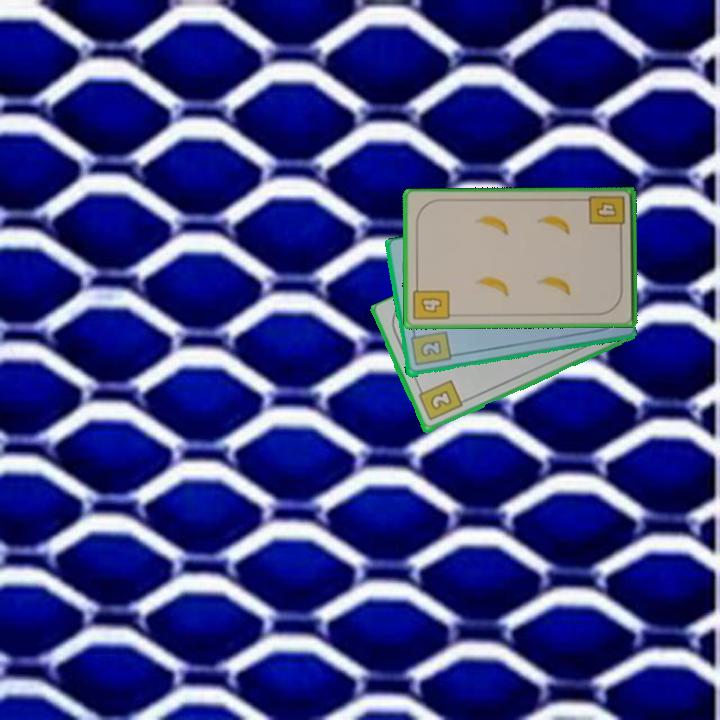2b: (415, 377, 465, 424), (407, 327, 453, 369)
4b: (586, 192, 628, 237), (410, 280, 452, 323)
